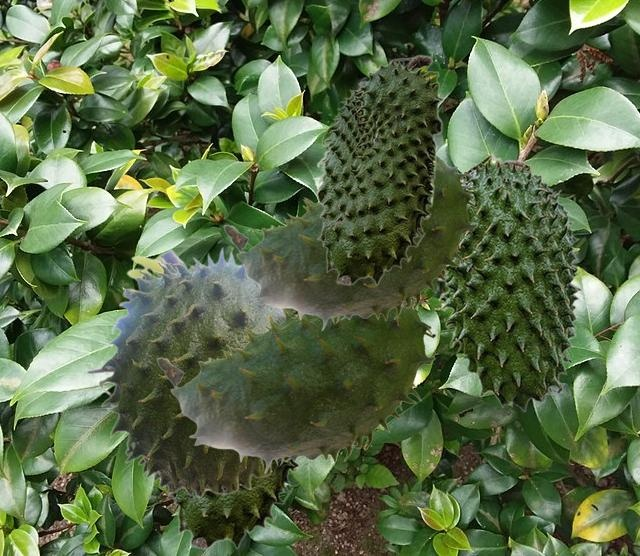guyabano: (85, 245, 283, 498), (156, 299, 435, 473), (223, 155, 477, 330), (437, 152, 582, 411), (165, 309, 301, 549), (315, 54, 443, 285)
